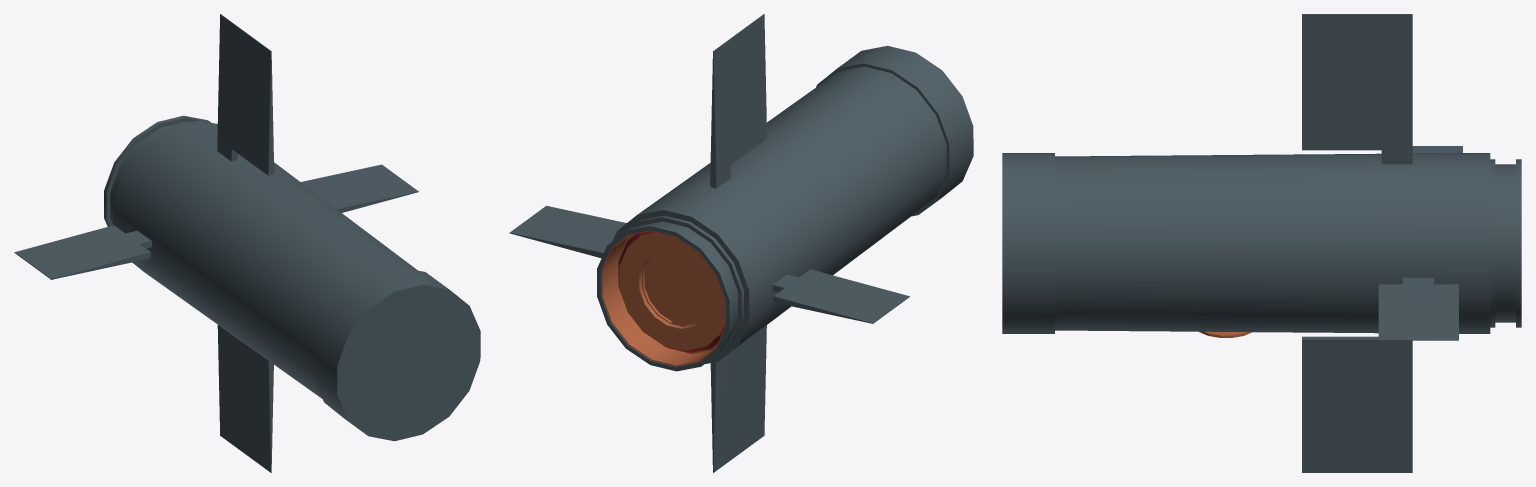
Rendered from ЗУР-РулеваяМашина_П.fbx.
3 renders of one model, left to right at view 1: azimuth 30°, elevation 25°; view 2: azimuth 150°, elevation 25°; view 3: azimuth 270°, elevation 25°, orthographic. The views are drawn at different scales.
Parts seen in each view (by area): view 1: Circle.005; view 2: Circle.005; view 3: Circle.005.
Part boxes in pixels (left/top/right/bottom): Circle.005: left=14, top=14, right=480, bottom=472; Circle.005: left=509, top=14, right=973, bottom=472; Circle.005: left=1002, top=14, right=1521, bottom=472.
Size of the model in its own units: 149 by 164 by 168.
1 material, 1 textured.
